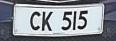1: (74, 8, 81, 33)
5: (60, 9, 73, 34), (78, 7, 90, 33)
C: (27, 10, 42, 34)
K: (41, 9, 55, 34)
